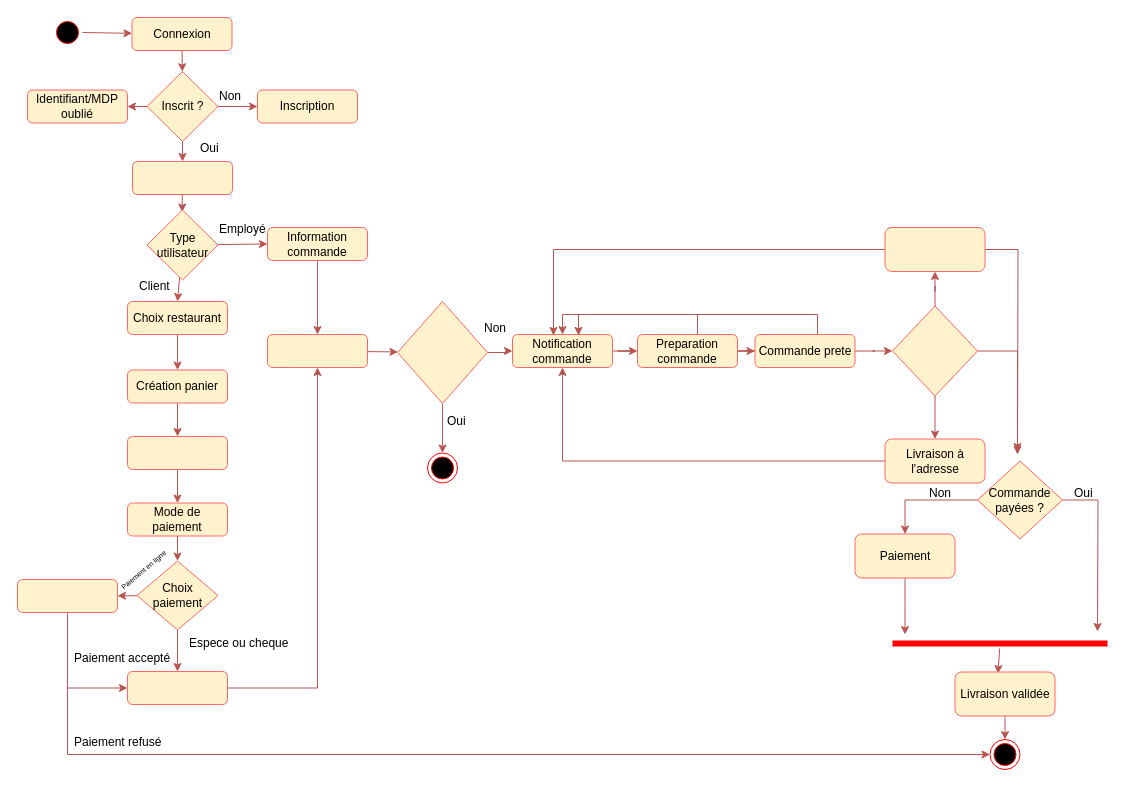
This 1128x787 diagram has some shape labels left out. Each missing label, with the centre of its shape:
"Annuler avant préparation" belongs at pixel 442 352.
"Authentification" belongs at pixel 182 177.
"Confirmation de commande" belongs at pixel 177 687.
"le client vient recuperer sa pizza" belongs at pixel 934 249.
"Livraison" belongs at pixel 935 350.
"Mode de livraison" belongs at pixel 177 453.
"Nouvelle commande" belongs at pixel 317 351.
"Plateforme paiement en ligne" belongs at pixel 67 595.
